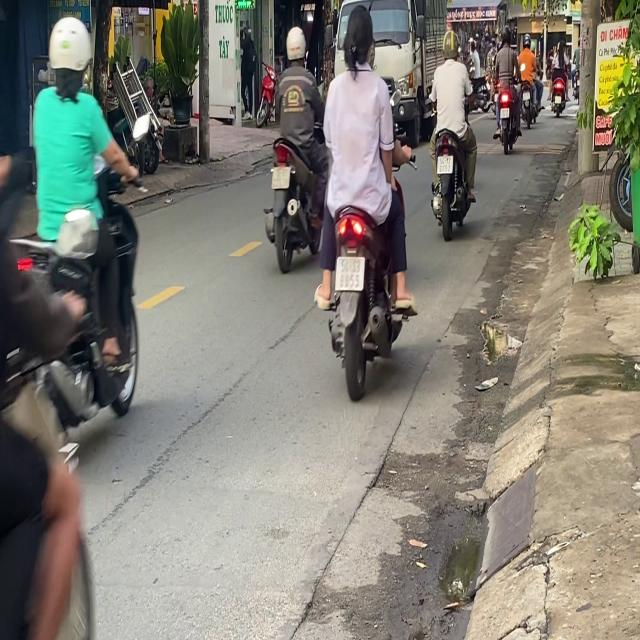helmet: (46, 14, 92, 95), (284, 25, 307, 66), (441, 28, 459, 61)
licenseplate: (0, 12, 145, 454), (314, 4, 418, 394), (264, 23, 328, 270), (426, 26, 478, 237)
motorcyclist: (342, 4, 376, 72)
nohelmet: (335, 256, 364, 289), (271, 166, 289, 188), (437, 155, 452, 173)
